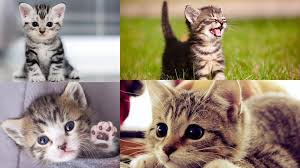cat: (136, 80, 247, 168), (1, 85, 107, 161), (175, 1, 236, 46), (14, 1, 71, 44)
